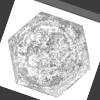screw: (0, 3, 100, 100)
